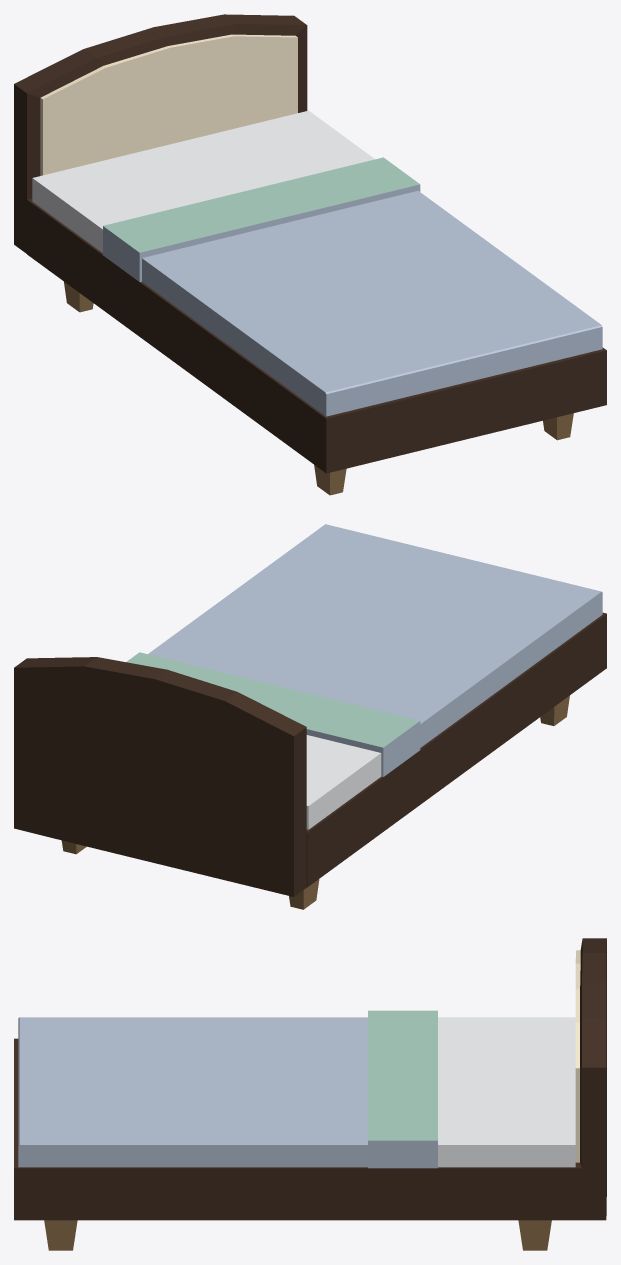
The model's file is Accesories_Bed_Large.012.glb.
The picture shows the model from 3 angles, top to bottom: view 1: azimuth 30°, elevation 25°; view 2: azimuth 150°, elevation 25°; view 3: azimuth 270°, elevation 25°; orthographic projection. The views are drawn at different scales.
Parts seen in each view (by area): view 1: Accesories_Bed_Large.012; view 2: Accesories_Bed_Large.012; view 3: Accesories_Bed_Large.012.
Boxes of the visible parts, x1,y1,x2,y2 form: Accesories_Bed_Large.012: [14, 14, 606, 495]; Accesories_Bed_Large.012: [14, 524, 606, 909]; Accesories_Bed_Large.012: [14, 938, 606, 1250].
Bounding box in the file's own units: 1.14 × 0.8708 × 2.2.
Materials: 1 (1 with a texture image).
